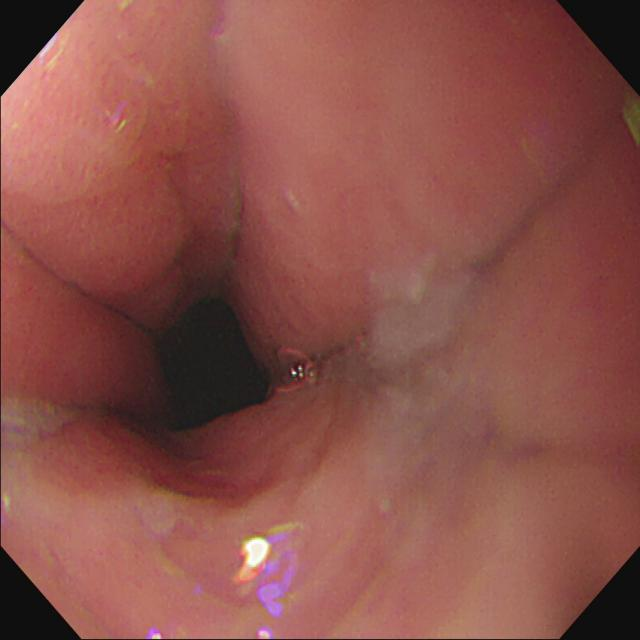A: (42, 73, 236, 276)
E: (160, 301, 271, 431)
J: (2, 401, 97, 452)
T: (276, 344, 322, 395)
U: (237, 521, 300, 619)
